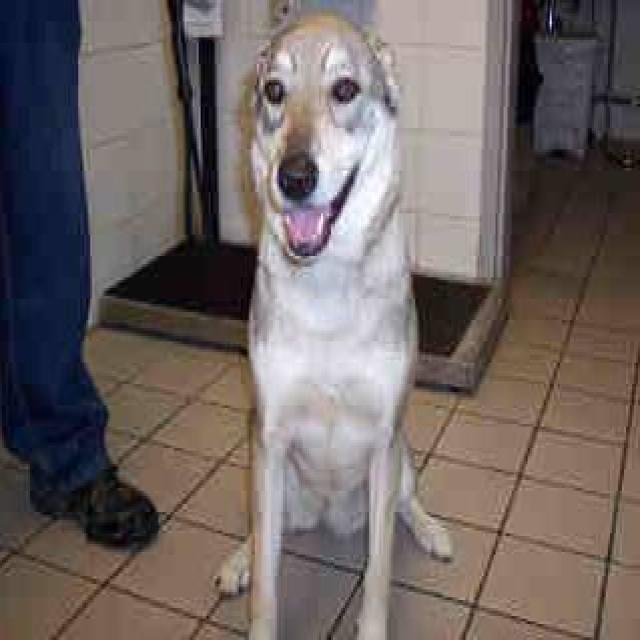dog: (211, 8, 454, 637)
